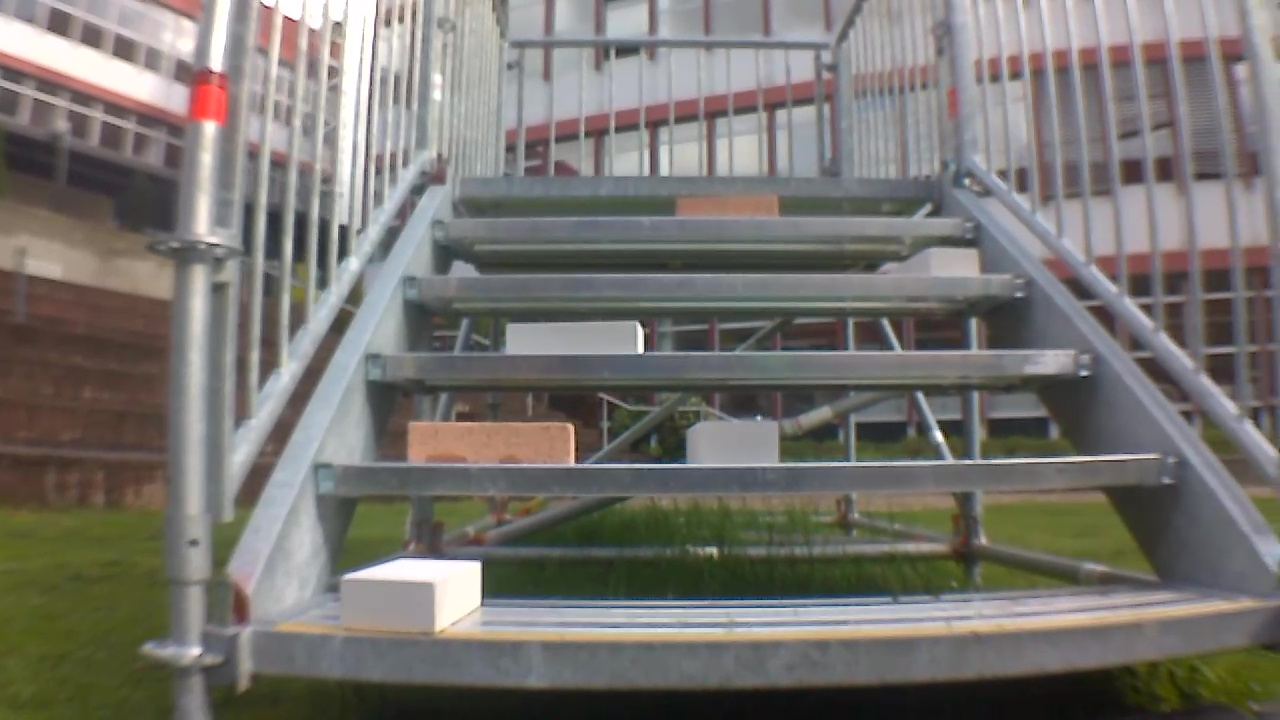brick: (342, 559, 481, 635), (409, 421, 574, 465), (506, 322, 643, 354), (687, 423, 778, 464), (677, 194, 777, 218), (900, 247, 979, 275)
edge: (250, 607, 1272, 682), (315, 456, 1184, 495), (365, 350, 1104, 378), (404, 273, 1033, 297), (435, 218, 978, 237), (453, 176, 936, 195)
stairs: (166, 4, 1278, 715)
steps: (231, 169, 1276, 690)
